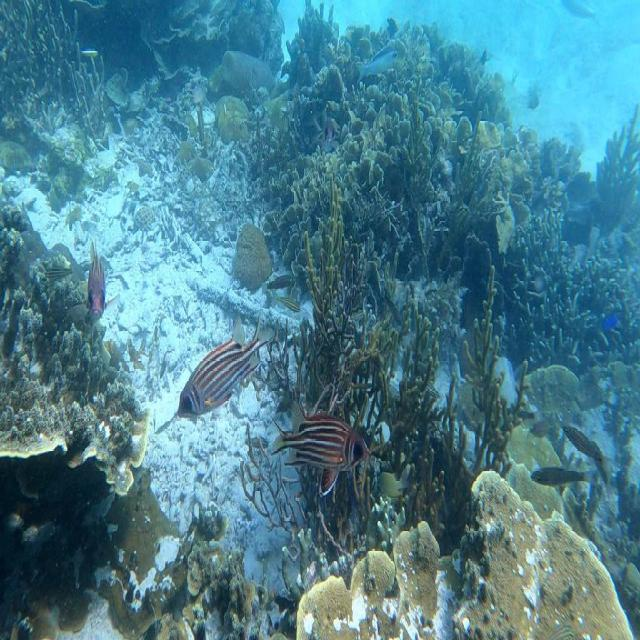Asker Baligi: (168, 300, 283, 444), (266, 409, 396, 516), (75, 227, 120, 339)
